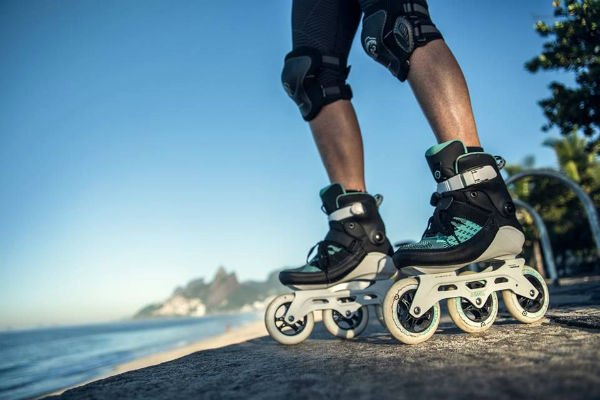roller_blade: (387, 148, 554, 337), (266, 190, 386, 335)
